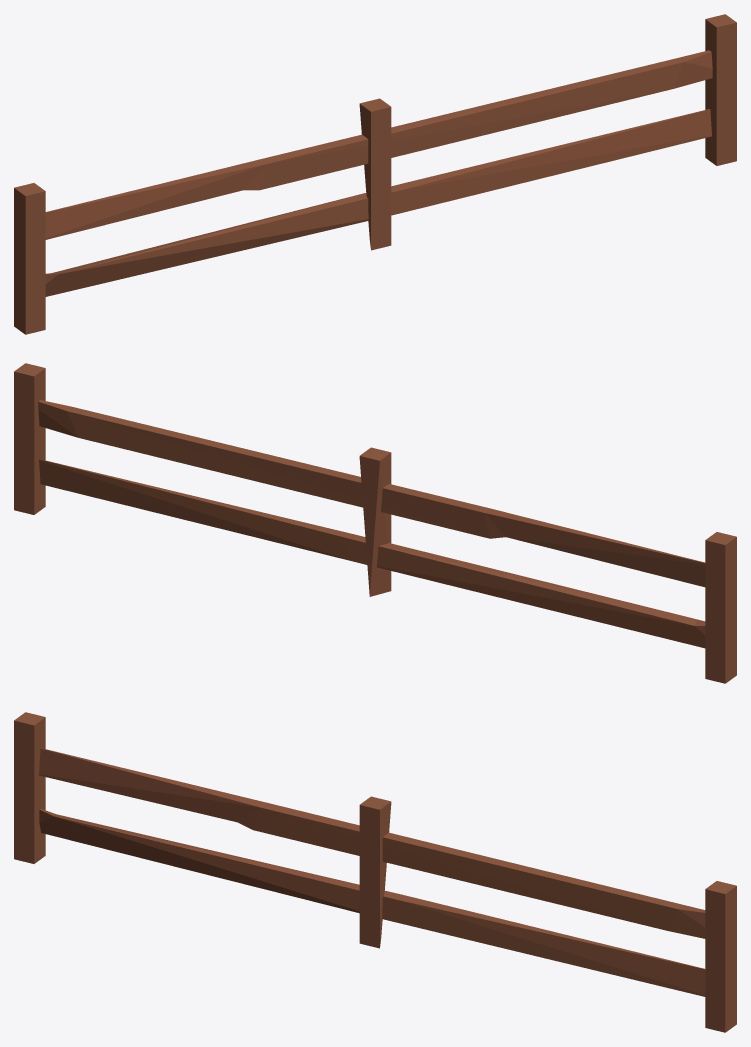
The model's file is Fence.lod1.glb.
3 renders of one model, top to bottom at view 1: azimuth 30°, elevation 25°; view 2: azimuth 150°, elevation 25°; view 3: azimuth 330°, elevation 25°, orthographic.
Parts seen in each view (by area): view 1: Fence; view 2: Fence; view 3: Fence.
Part boxes in pixels (x1,y1,x2,y2): Fence: (14, 14, 736, 334); Fence: (14, 363, 736, 683); Fence: (14, 712, 736, 1032).
Bounding box in the file's own units: 5.89 × 1.1 × 0.1655.
